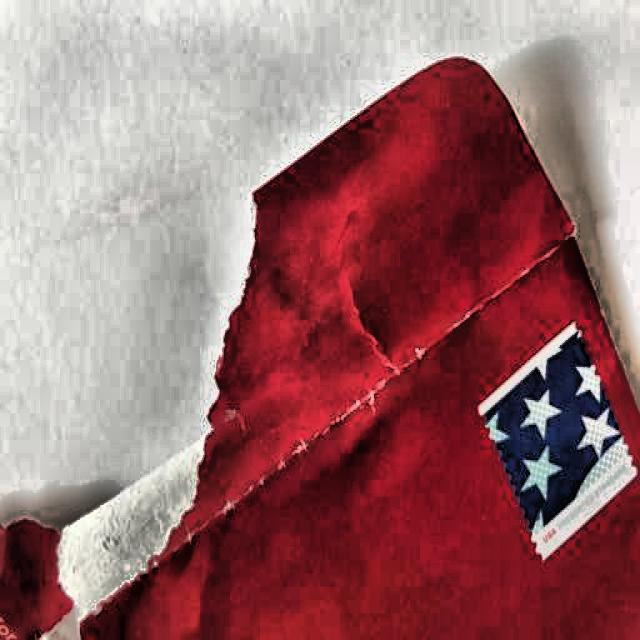paper: (95, 55, 640, 640)
